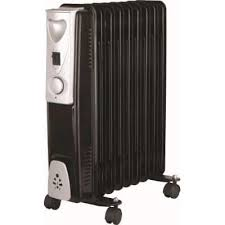Radiator: (44, 1, 180, 223)
